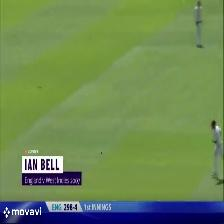ball: (97, 148, 106, 158)
